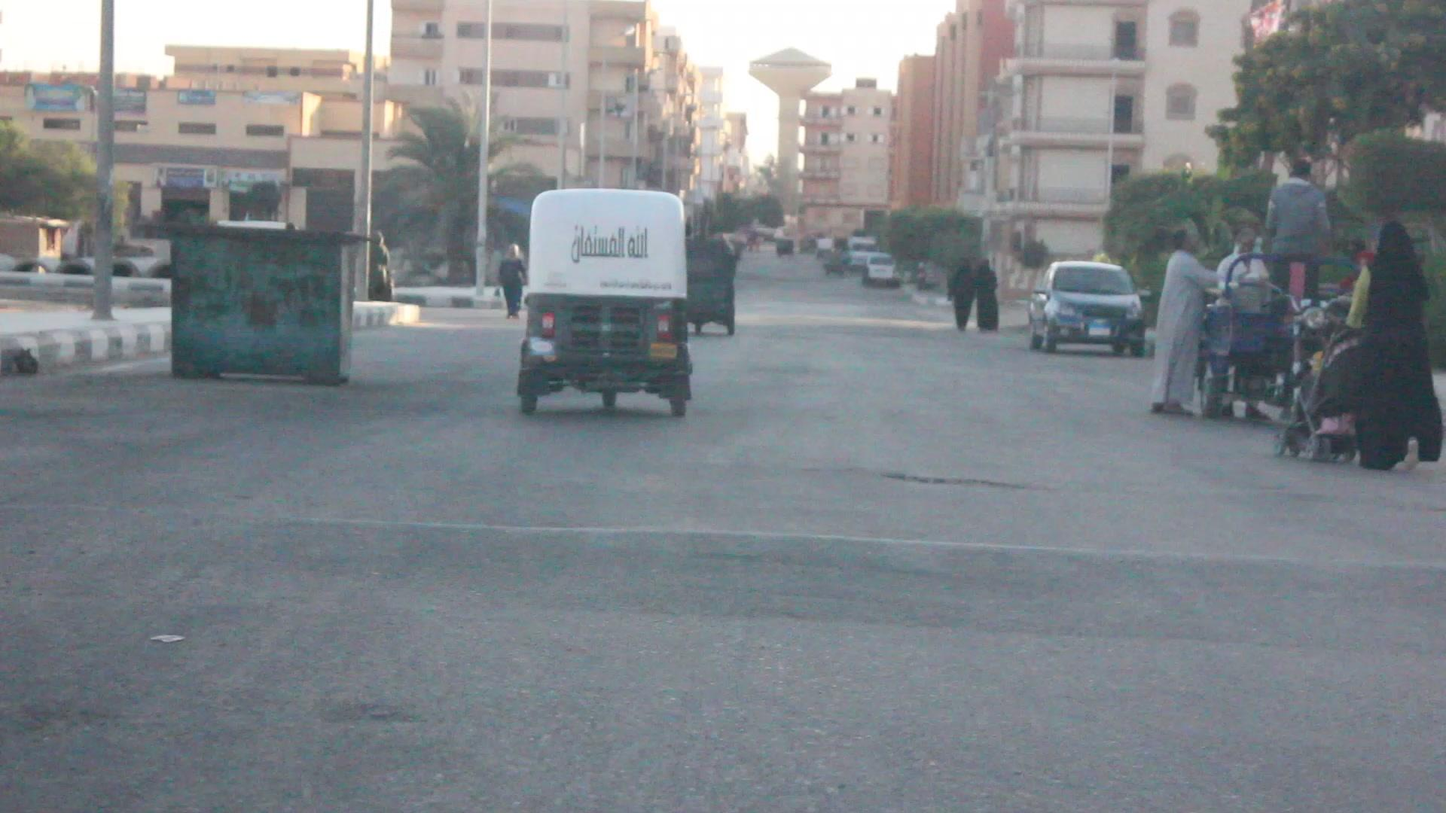Bump: (2, 487, 1446, 647)
